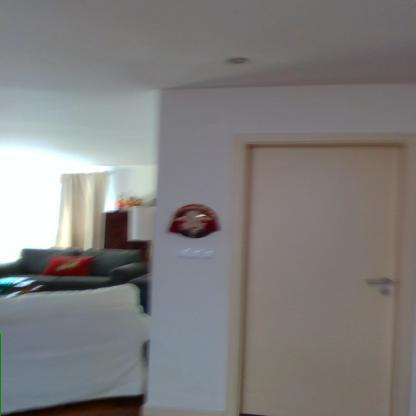door: (251, 148, 403, 415)
lever: (361, 278, 394, 286)
